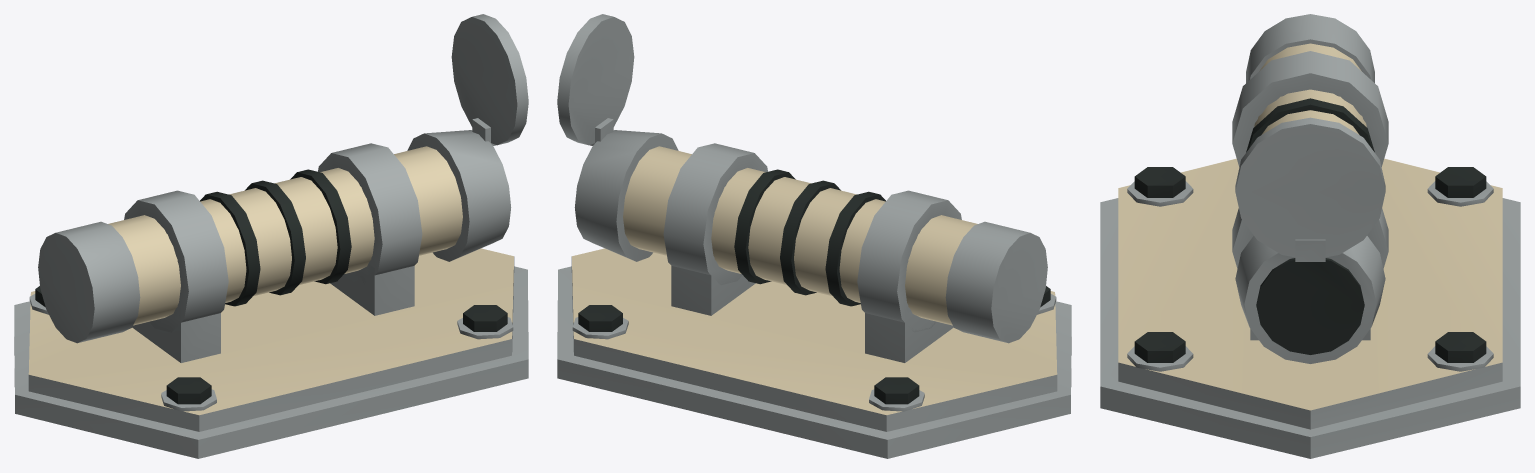
File: panel_sight.glb
3 views of the same model, side by side, from view 1: azimuth 30°, elevation 25°; view 2: azimuth 150°, elevation 25°; view 3: azimuth 270°, elevation 25° (orthographic). The views are drawn at different scales.
Visible parts, largest first — view 1: panel_sight; view 2: panel_sight; view 3: panel_sight.
Boxes of the visible parts, x1,y1,x2,y2 form: panel_sight: [14, 14, 528, 458]; panel_sight: [557, 14, 1071, 458]; panel_sight: [1100, 14, 1520, 458].
Bounding box in the file's own units: 0.45 × 0.233 × 0.28.
